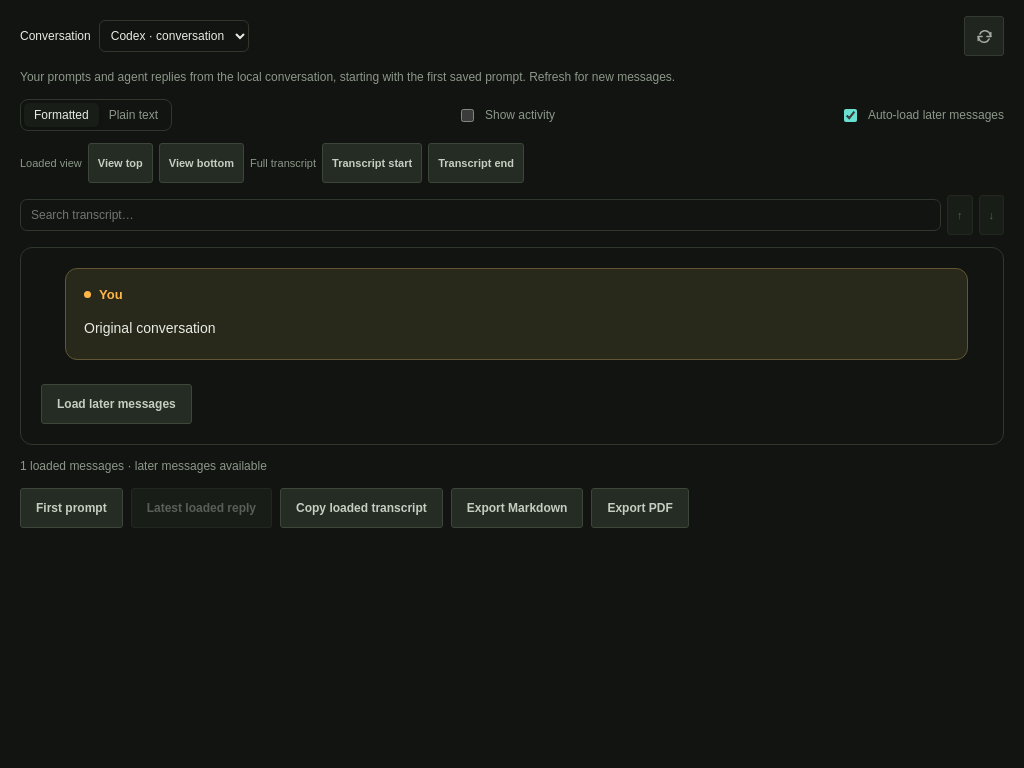
Scenario: AgentTranscript › ignores late full-transcript results after source switch
Expected: the text "Original conversation" is shown, x1=84 y1=320 x2=216 y2=336
Click the button "Transcript end" at point(476, 163), box x1=428 y1=143 x2=524 y2=183
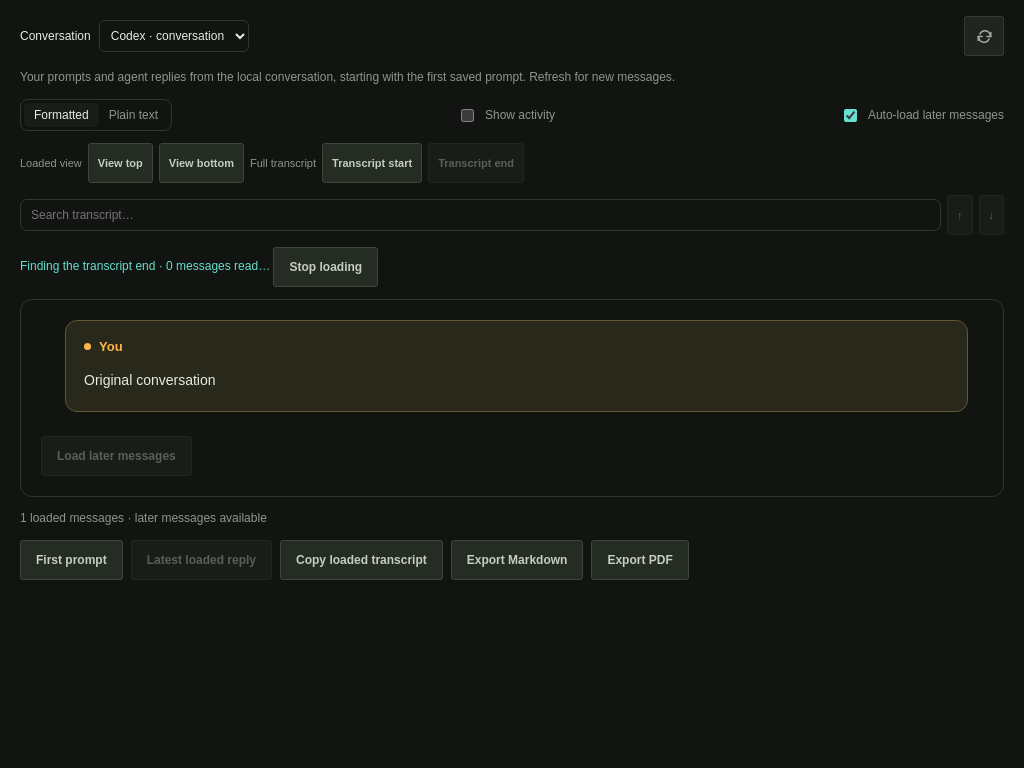
Select "Claude · other" in the dropdown named "Transcript conversation" at point(174, 36), box x1=99 y1=20 x2=249 y2=52
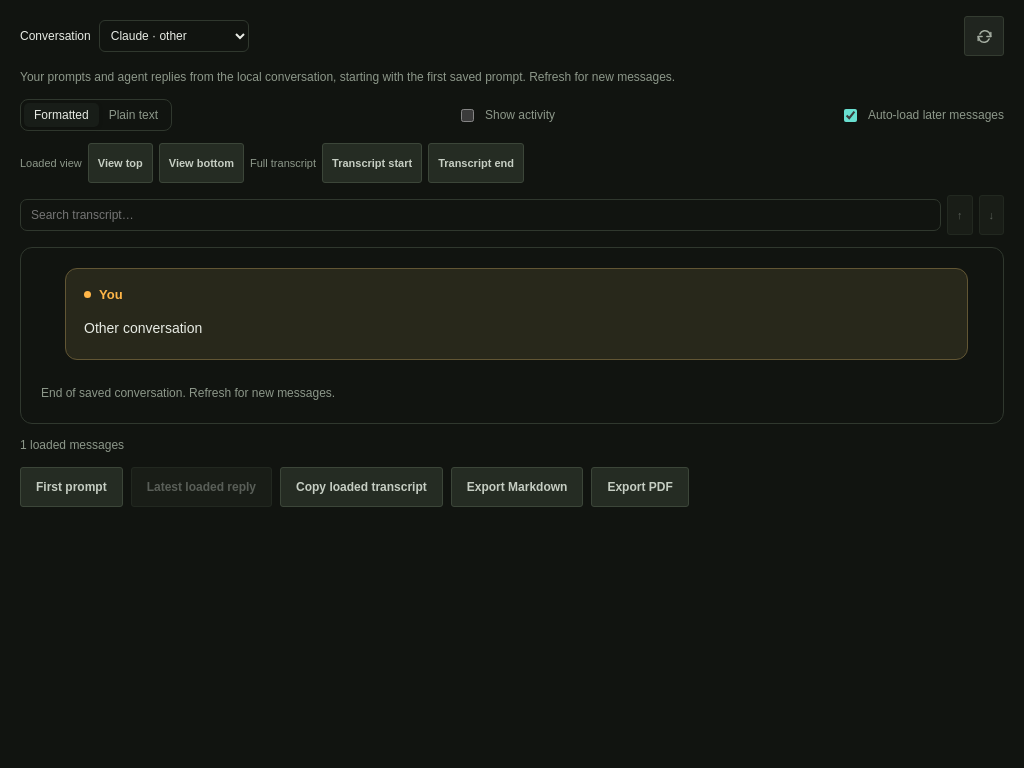
Expected: the text "Other conversation" is shown, x1=84 y1=320 x2=202 y2=336
Expected: the button "Stop loading" is gone
